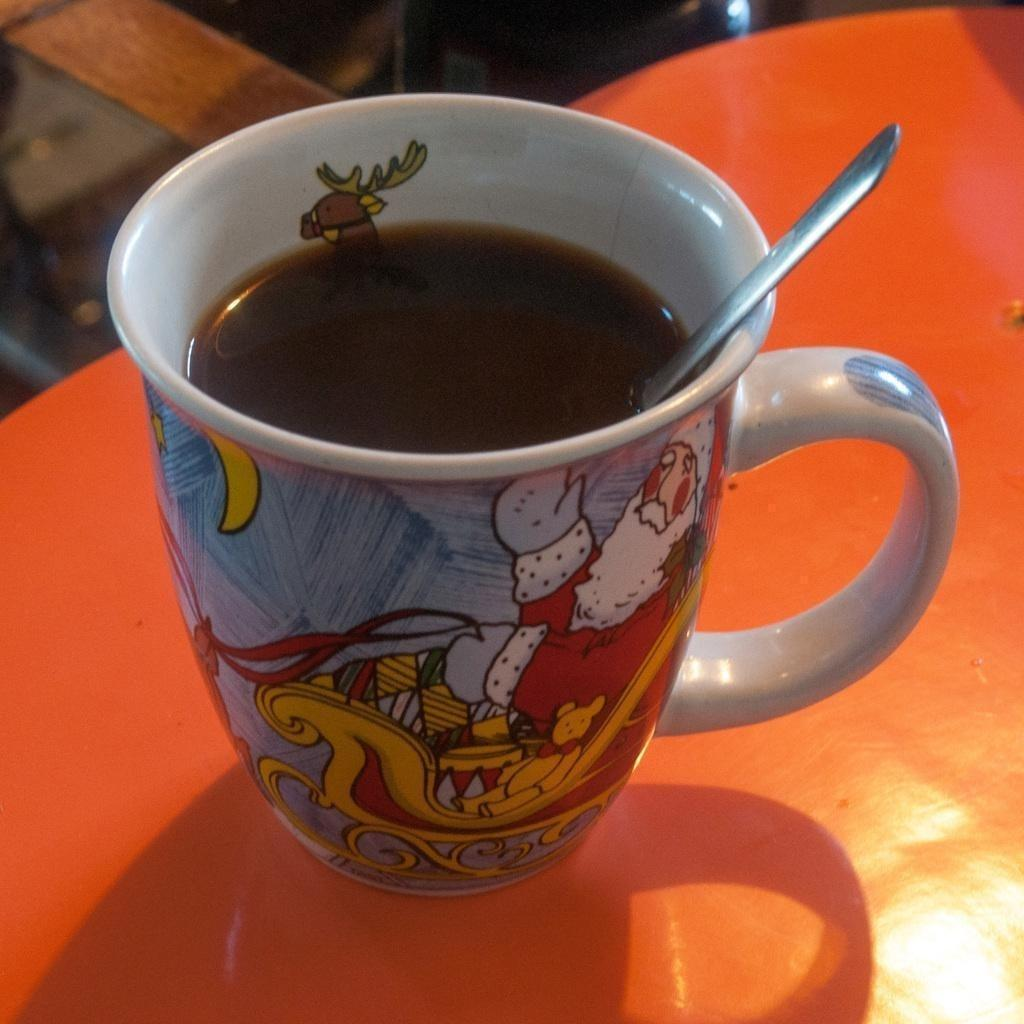cup-handle: (101, 90, 963, 896)
